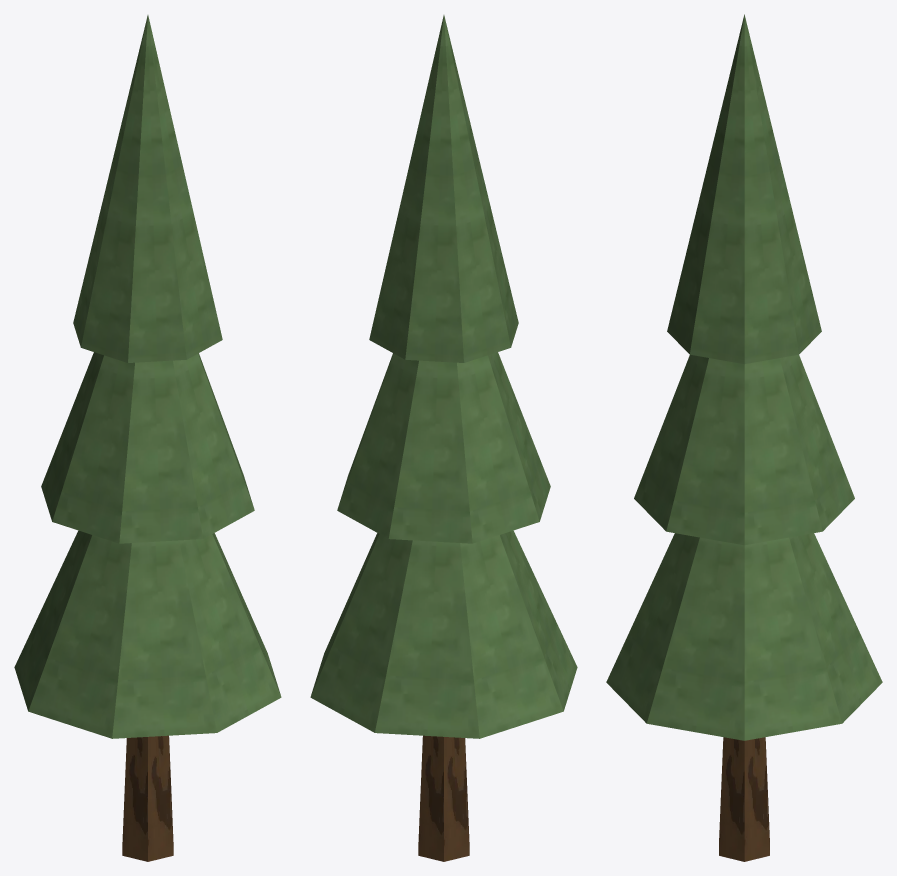
The model's file is tree.pine.glb.
3 renders of one model, left to right at view 1: azimuth 30°, elevation 25°; view 2: azimuth 150°, elevation 25°; view 3: azimuth 270°, elevation 25°, orthographic.
Visible parts, largest first — view 1: scenery.tree.pine; view 2: scenery.tree.pine; view 3: scenery.tree.pine.
Part boxes in pixels (x1,y1,x2,y2): scenery.tree.pine: (14,15,281,861); scenery.tree.pine: (310,15,577,861); scenery.tree.pine: (606,14,882,861).
Size of the model in its own units: 1.5 by 5 by 1.5.
Materials: 2 (2 with a texture image).
